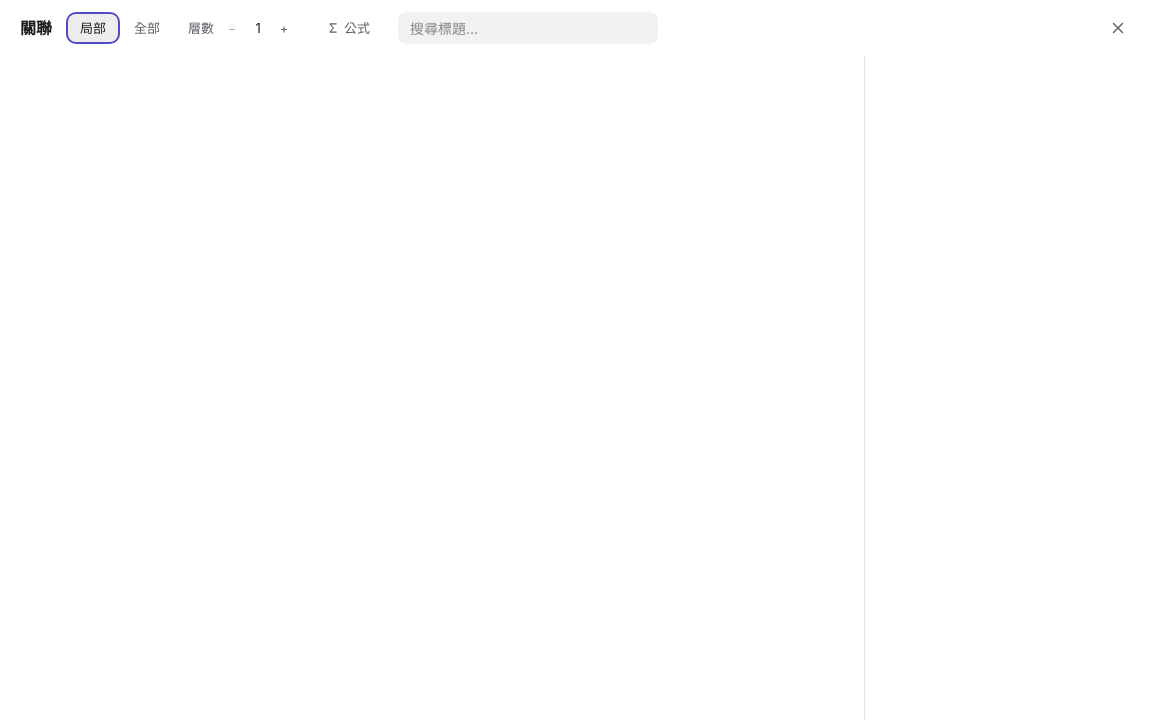
GraphOverlay › formula view shows shared formulas; selecting one lists the notes that use it
Click the button "全部" at (147, 28), box [122, 14, 172, 42]
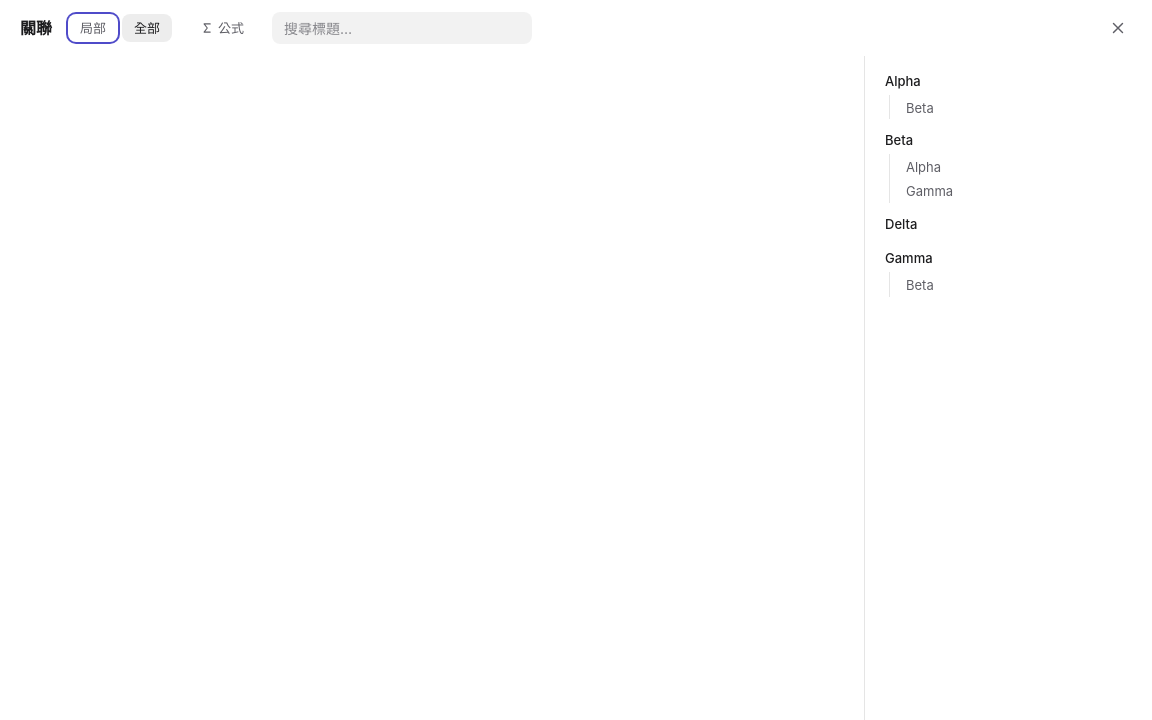
Click the button "公式" at (222, 28), box [188, 14, 256, 42]
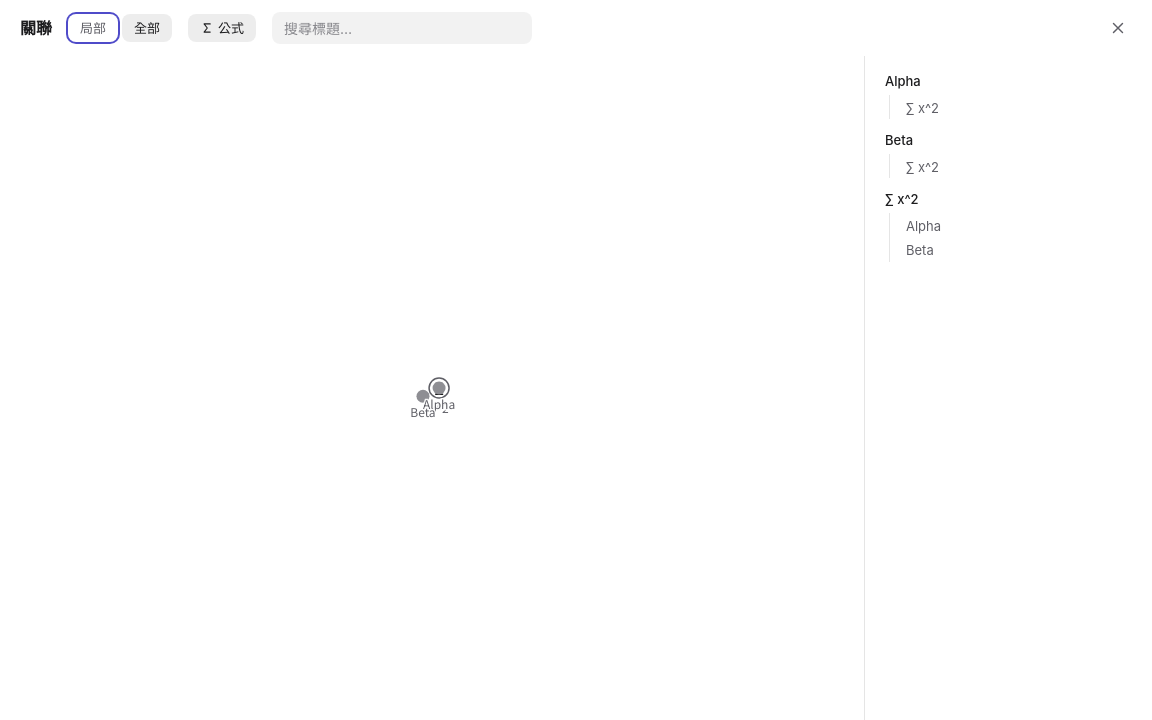
Now the 1st button "∑ x^2" is shown
Click the 1st button "∑ x^2" at (1019, 108), box [898, 97, 1140, 119]
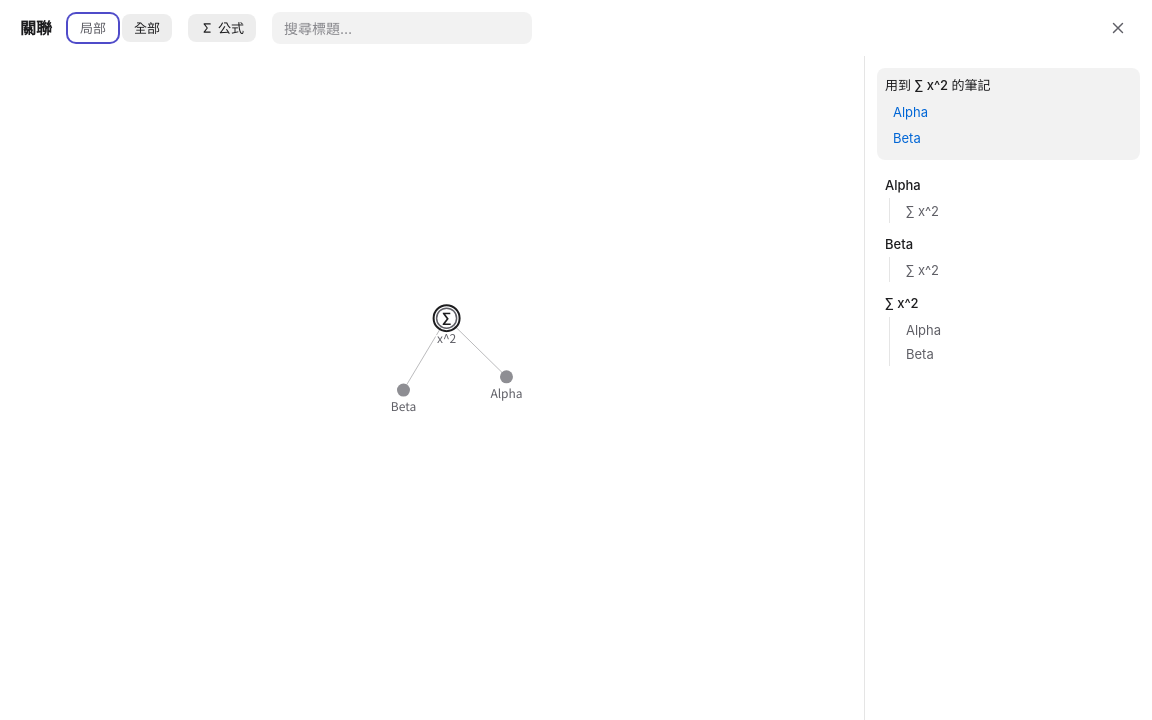
Expected: the button "Gamma" is not shown
Now the button "Alpha" below "用到 ∑" is shown, box [885, 99, 1132, 125]
Now the button "Beta" below "用到 ∑" is shown, box [885, 125, 1132, 152]
